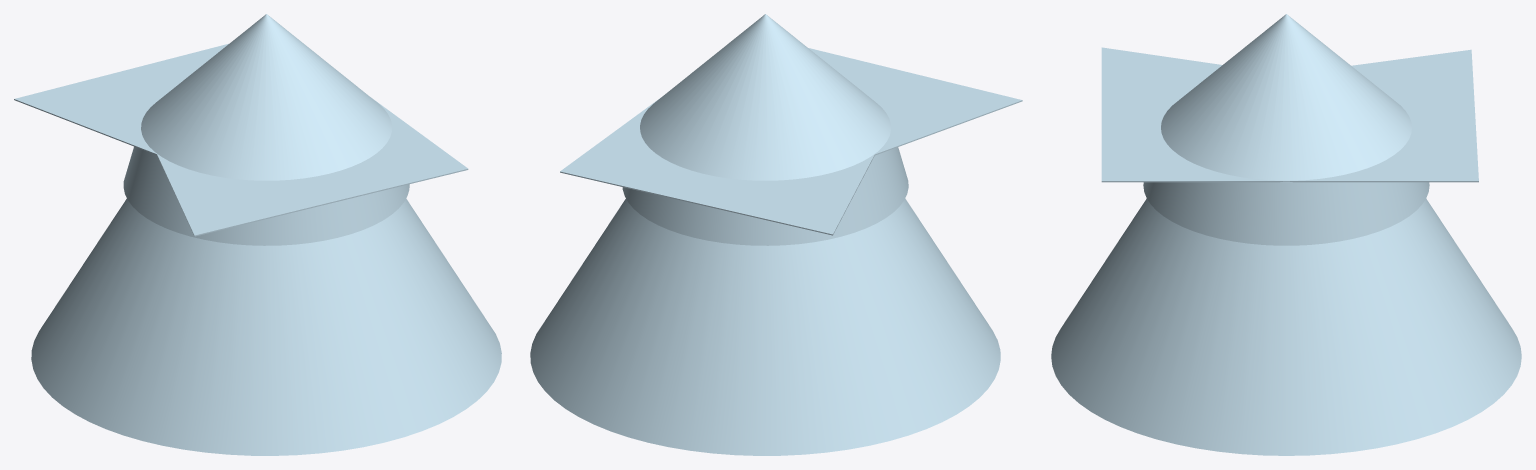
The model's file is shield.gltf.
3 renders of one model, left to right at view 1: azimuth 30°, elevation 25°; view 2: azimuth 150°, elevation 25°; view 3: azimuth 270°, elevation 25°, orthographic.
Visible parts, largest first — view 1: Part 1; view 2: Part 1; view 3: Part 1.
Part boxes in pixels (x1=…): Part 1: x1=14, y1=14, x2=501, y2=455; Part 1: x1=530, y1=14, x2=1022, y2=455; Part 1: x1=1051, y1=14, x2=1521, y2=455.
Bounding box in the file's own units: 0.1899 × 0.1524 × 0.1899.
